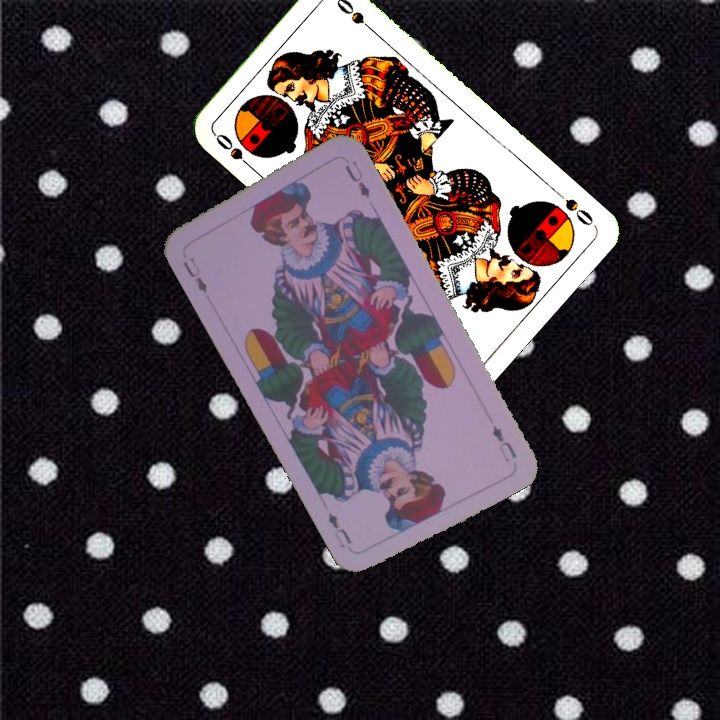EU: (488, 421, 519, 465), (179, 253, 210, 296)
SO: (211, 129, 259, 175), (549, 185, 598, 229)
